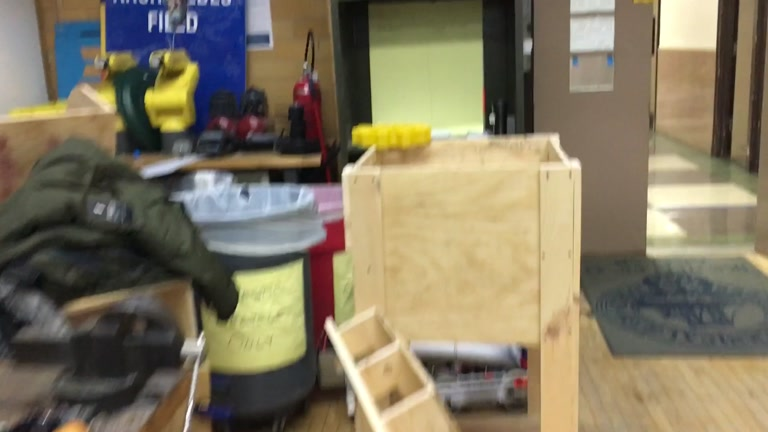gear: (348, 119, 433, 154)
